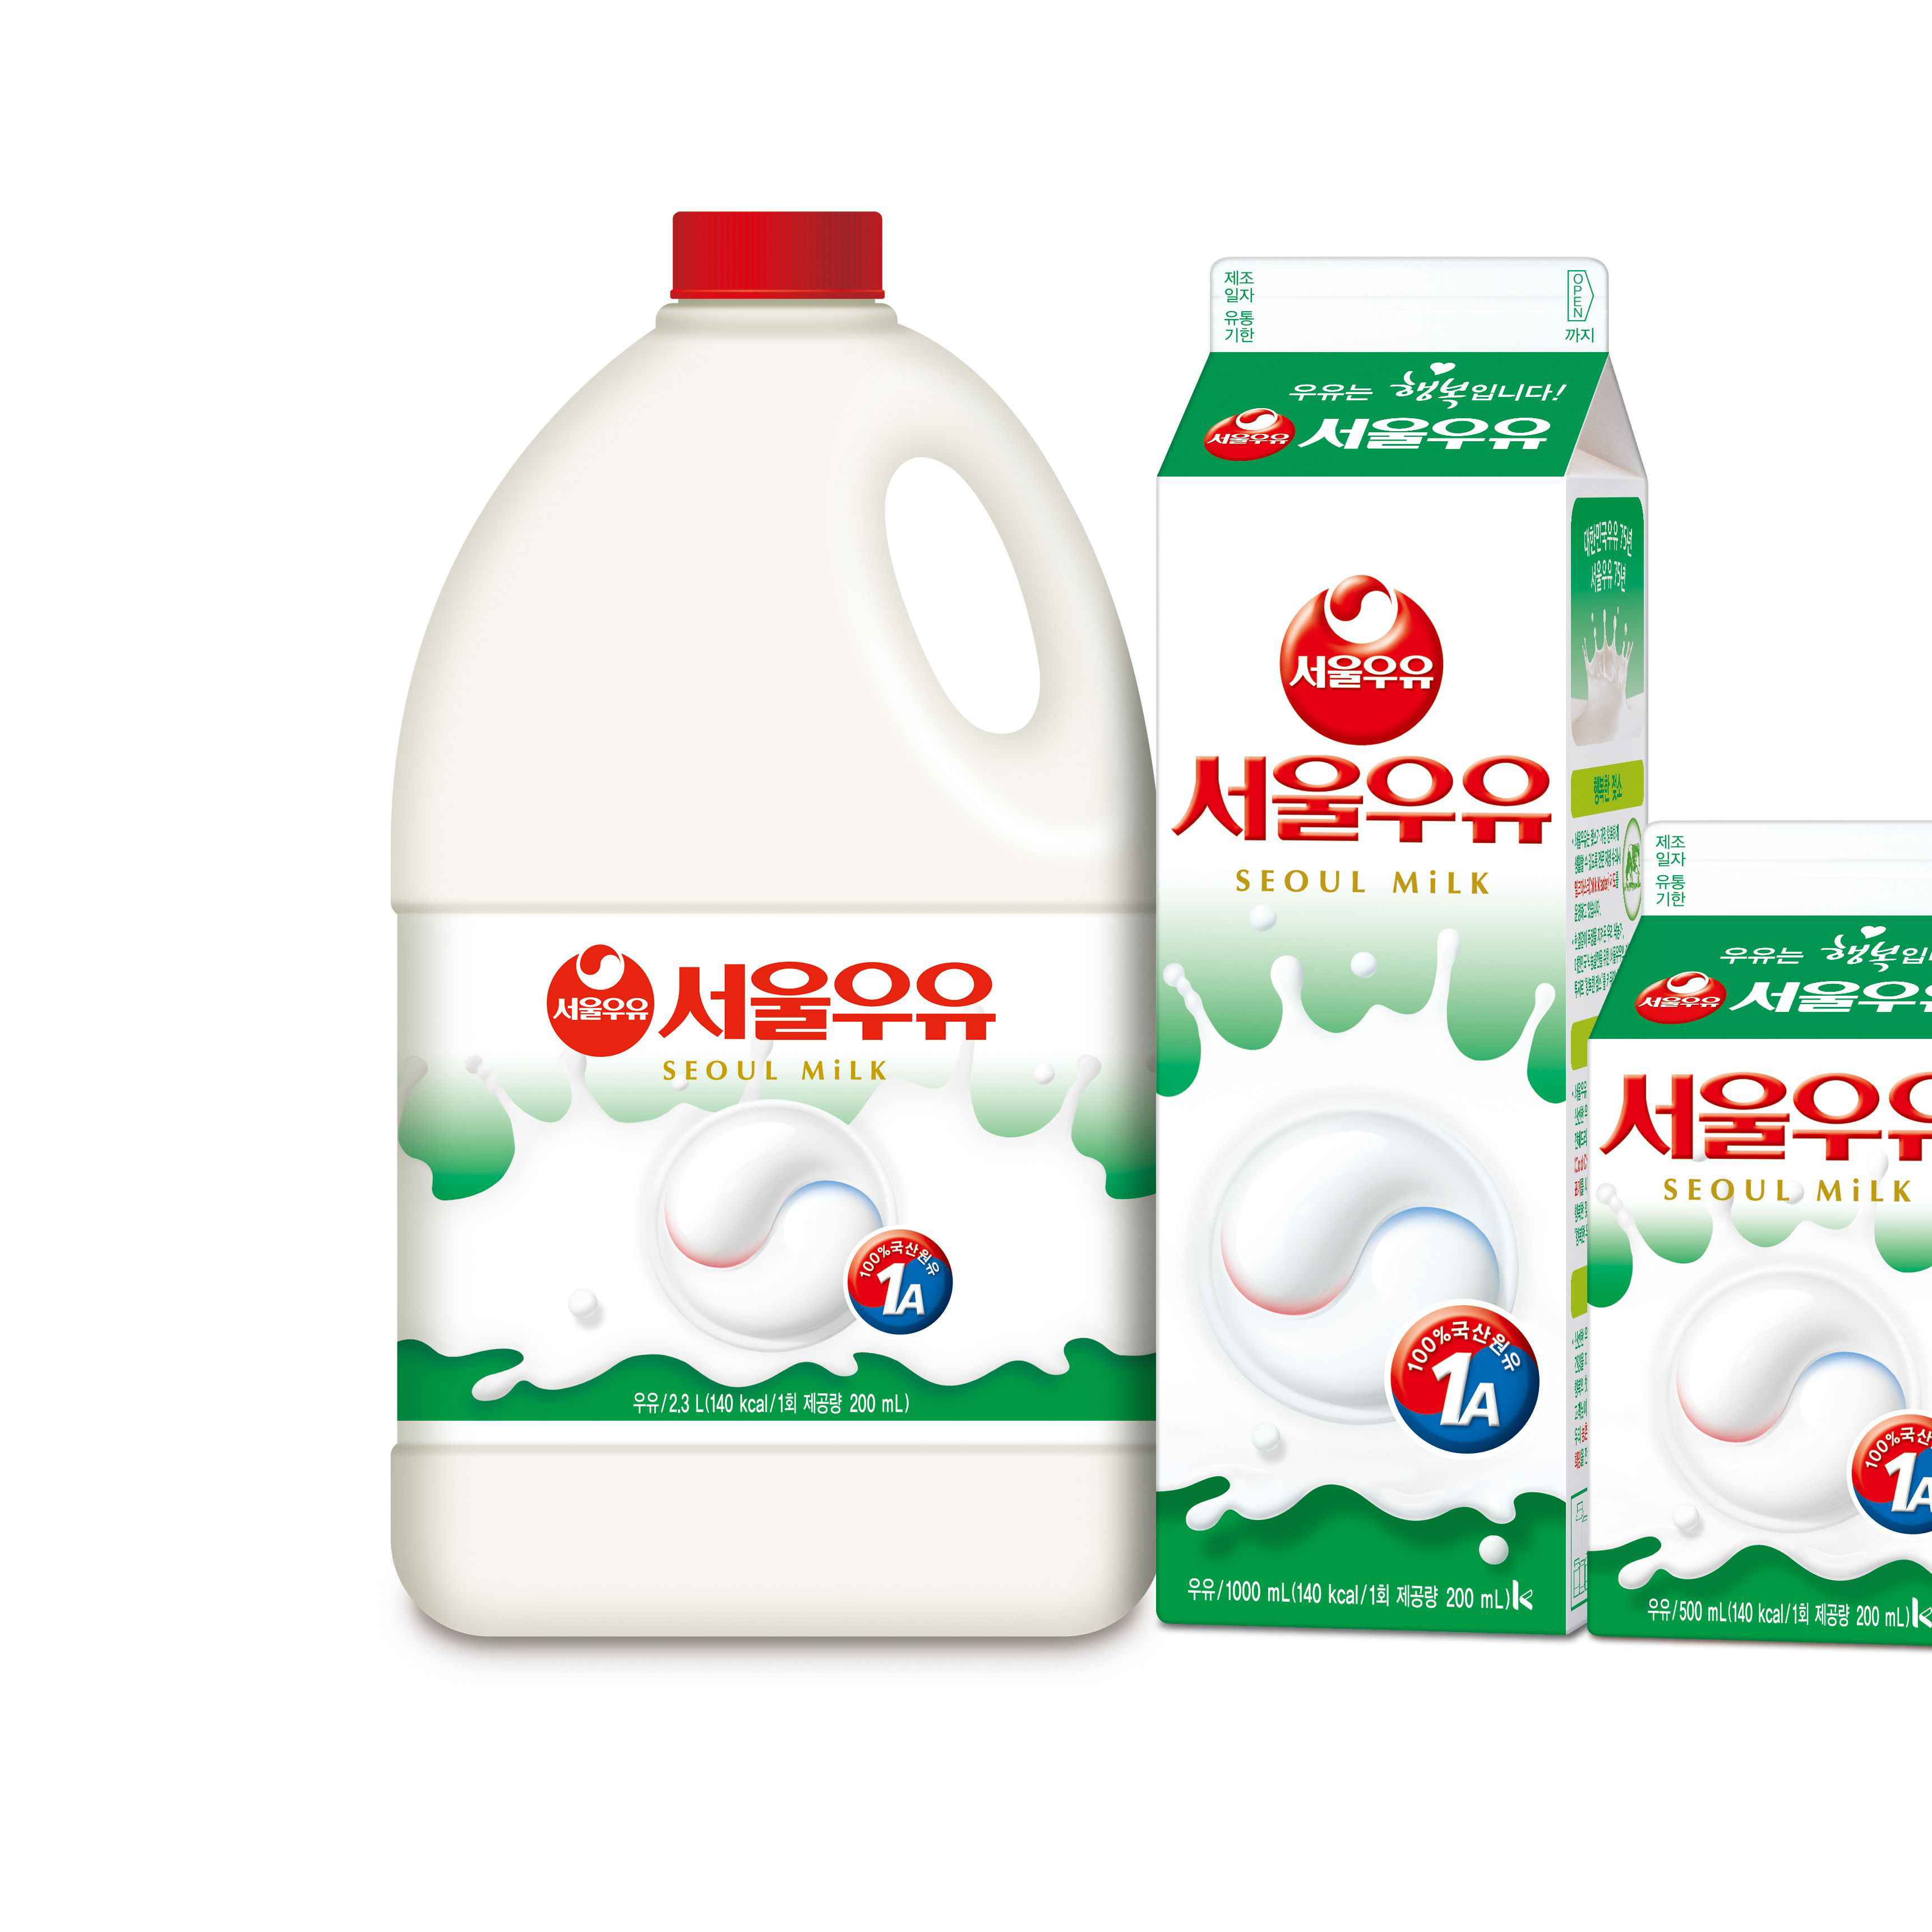milk: (395, 200, 1154, 1645), (1154, 244, 1654, 1642), (1583, 810, 1932, 1654)
